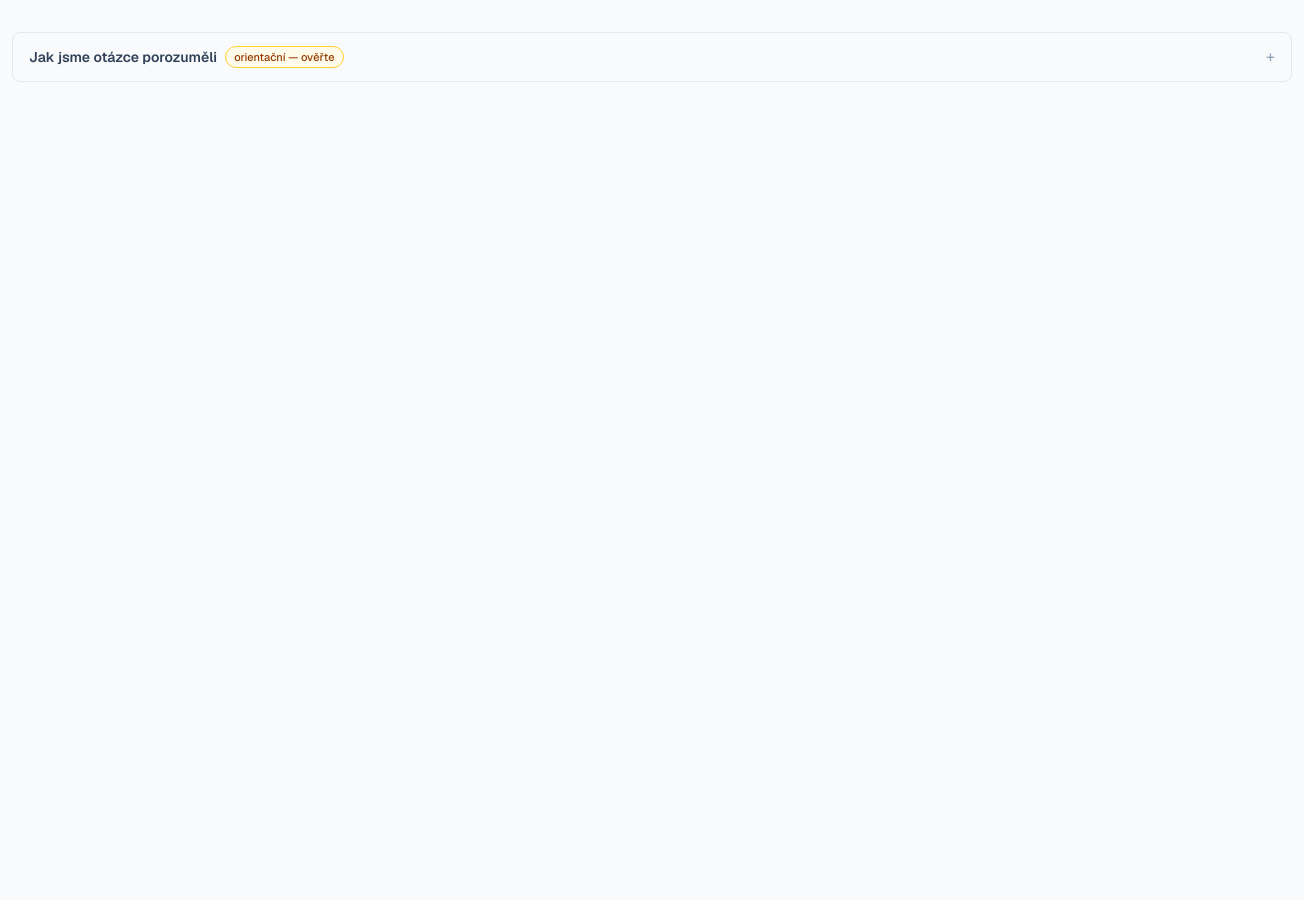
Test: VL-C-10 — runtime render evidence: panels render from live-shape fixtures › UnderstandingPanel renders (expanded) without throwing
Note: … and expands to show the whitelisted intake content (sub-questions + facts).
Click the button "Jak jsme otázce porozuměli orientační — ověřte +" at (123, 57), box x1=13 y1=33 x2=1291 y2=81
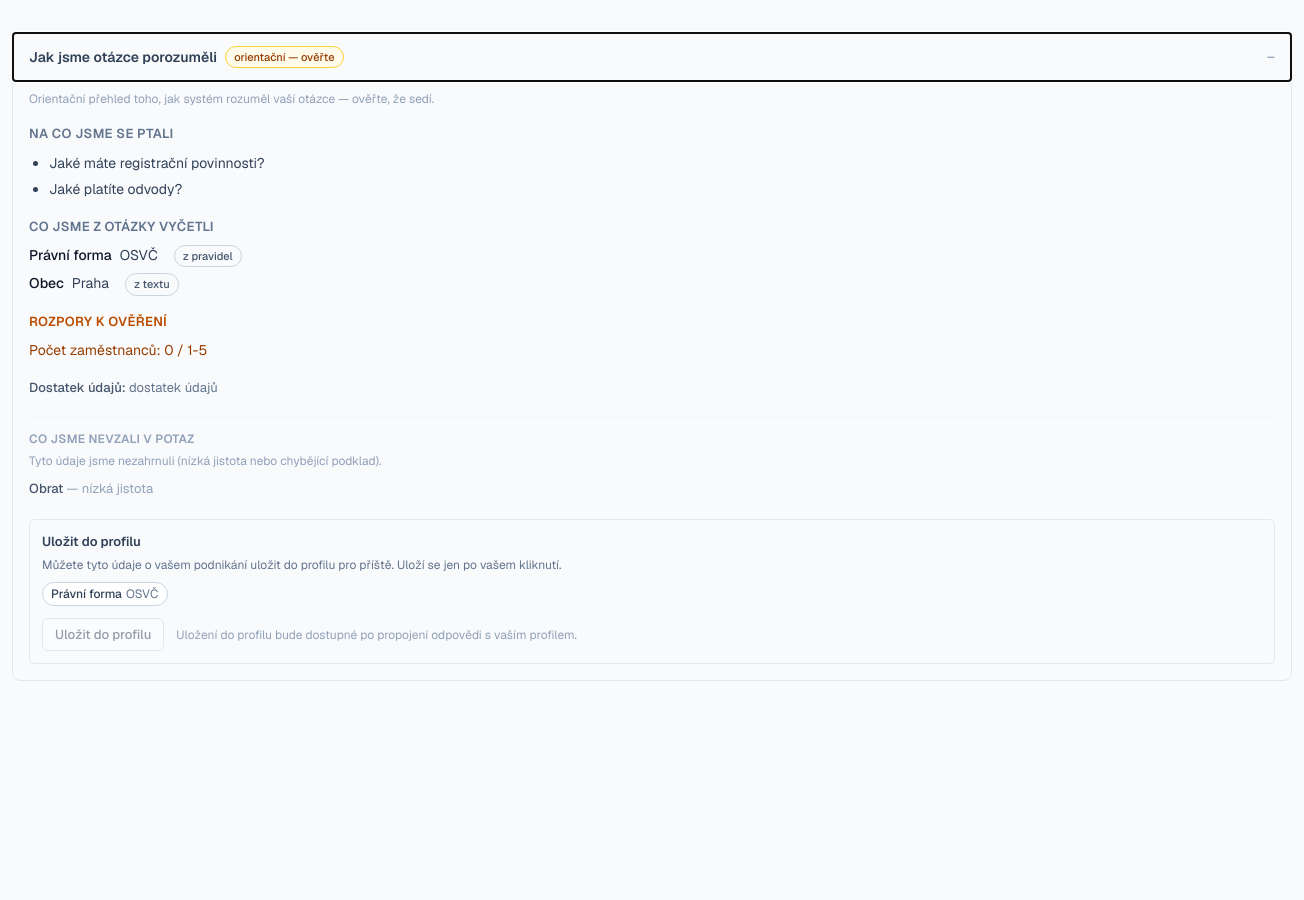
Now the list item "Jaké máte registrační povinnosti?" is shown, box x1=49 y1=154 x2=265 y2=172
Now the text "Praha" is shown, box x1=72 y1=273 x2=109 y2=294
Now the text "bude dostupné po propojení odpovědi s vaším profilem" is shown, box x1=176 y1=627 x2=577 y2=643
